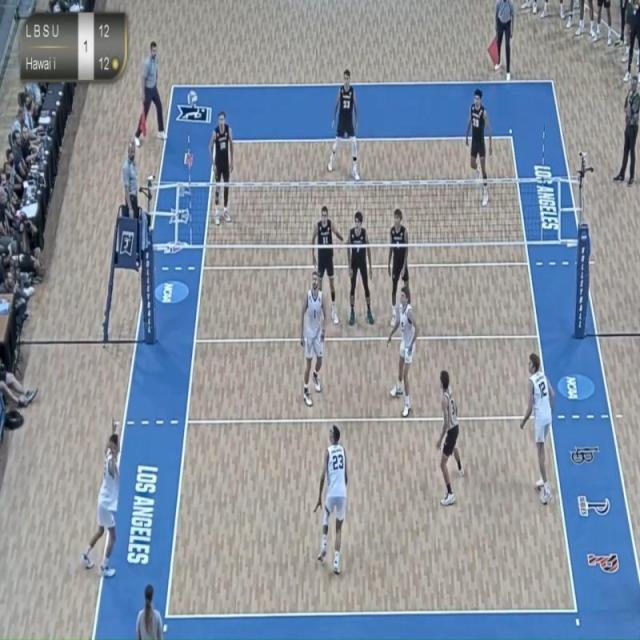volleyball: (185, 86, 199, 110)
